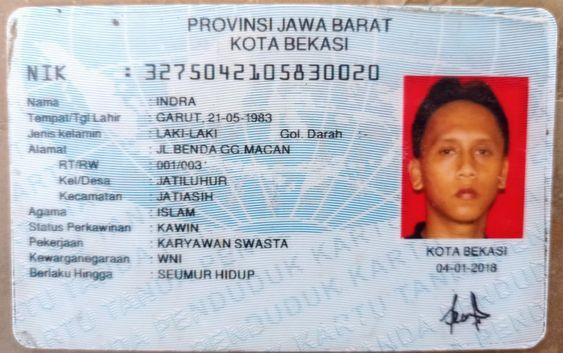ID-card: (11, 7, 546, 344)
